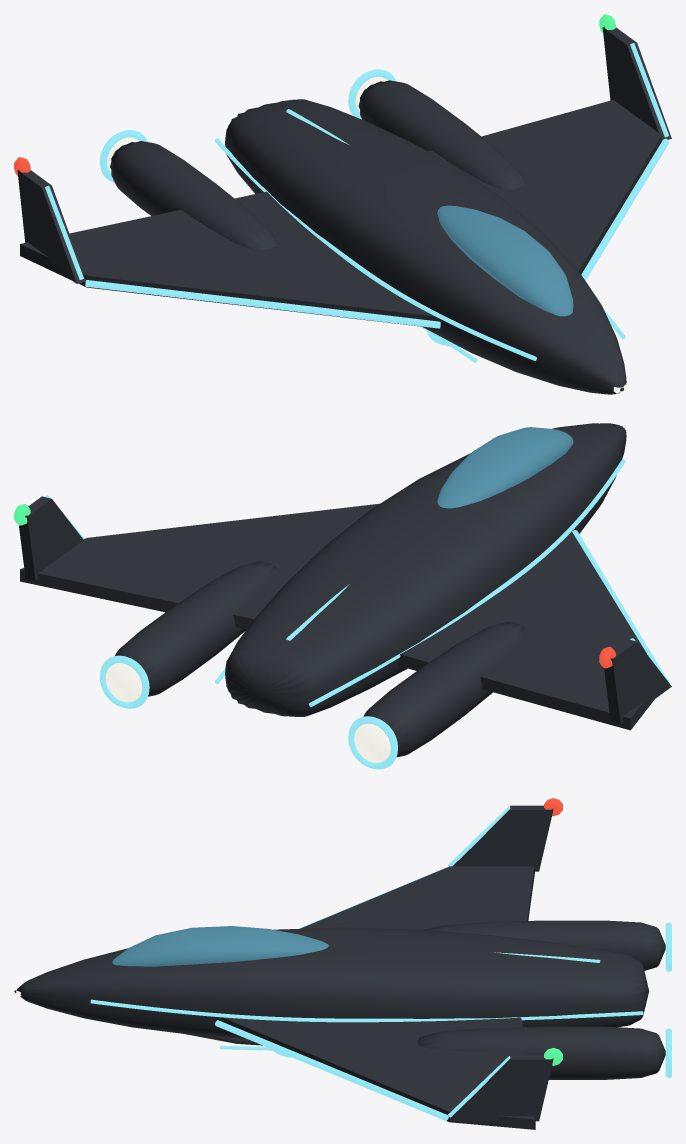
Rendered from patrol-craft.glb.
The picture shows the model from 3 angles, top to bottom: view 1: azimuth 30°, elevation 25°; view 2: azimuth 150°, elevation 25°; view 3: azimuth 270°, elevation 25°; orthographic projection. The views are drawn at different scales.
Parts seen in each view (by area): view 1: Shell, Trim, Window, Lens; view 2: Shell, Window, Trim, Lens; view 3: Shell, Window, Trim.
Boxes of the visible parts, box(x1,y1,x2,y2) form: Shell: box(17, 26, 671, 394); Trim: box(45, 43, 669, 362); Window: box(437, 205, 573, 316); Lens: box(107, 76, 627, 393); Shell: box(19, 423, 671, 757); Window: box(437, 427, 573, 508); Trim: box(45, 459, 668, 769); Lens: box(105, 428, 627, 762); Shell: box(14, 805, 665, 1129); Window: box(112, 926, 328, 966); Trim: box(90, 806, 671, 1120).
Size of the model in its own units: 8.6 by 1.91 by 9.18.
